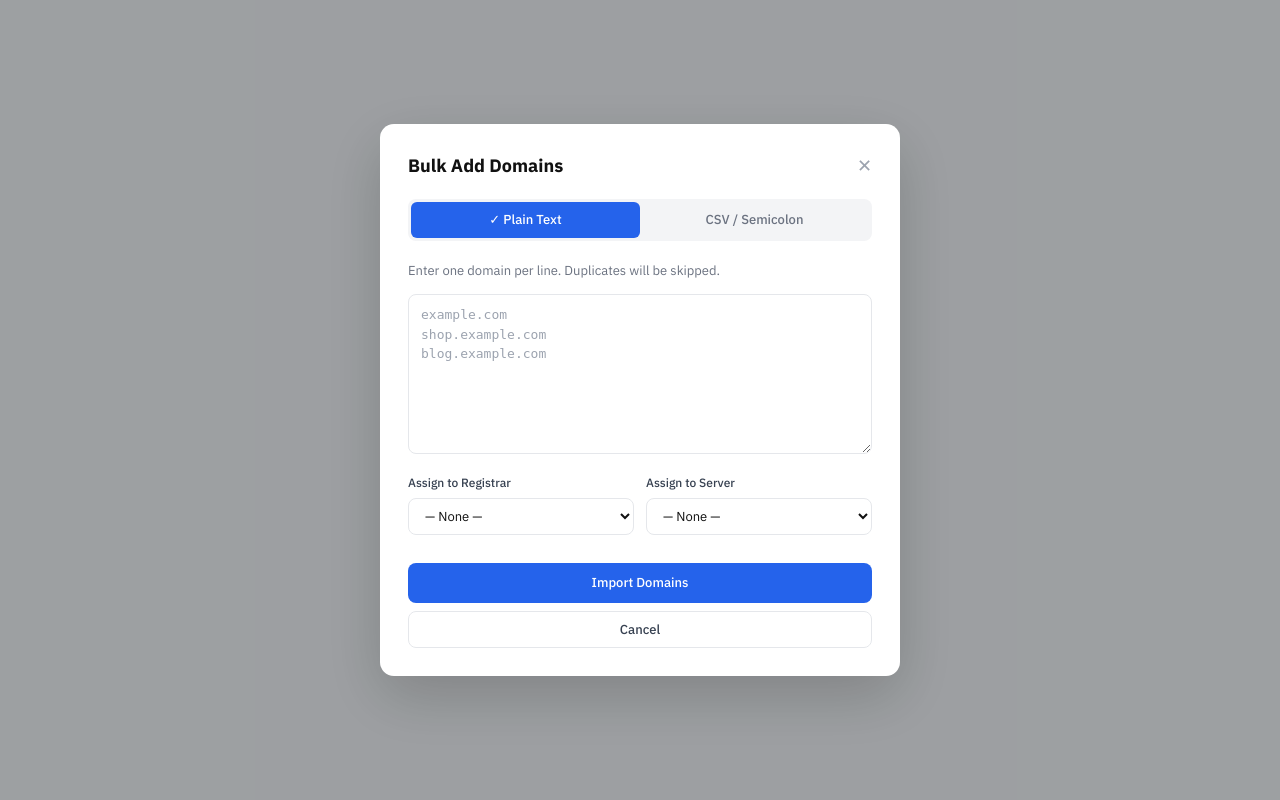
Test: BulkAddDialog › запятые вместо точек с запятой по-прежнему отменяют отправку
Step 1. Click the button "CSV / Semicolon" → (754, 220), box [640,202,869,238]
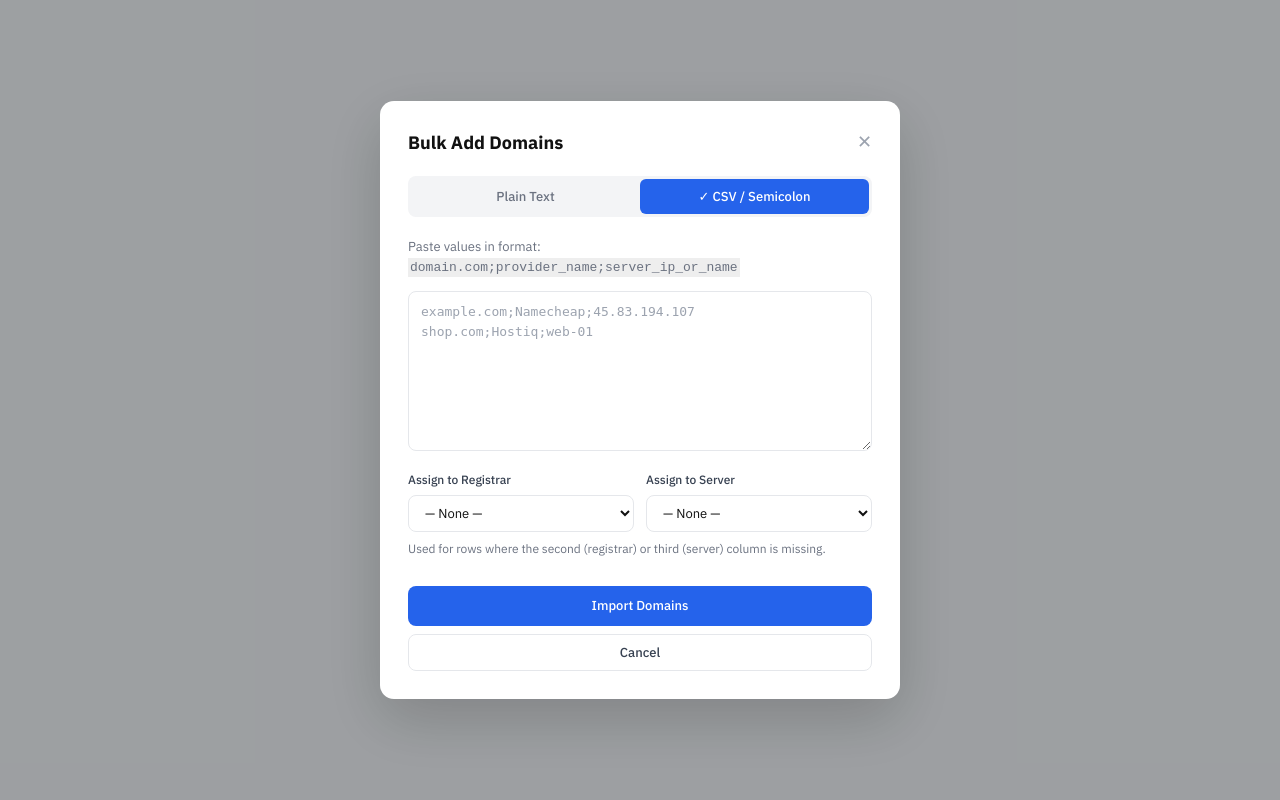
Step 2. Type "example.com,Namecheap,web-01" into the text box with placeholder "example.com;Namecheap;45.83.194.107 shop.com;Hostiq;web-01" → (640, 371), box [408,291,872,451]
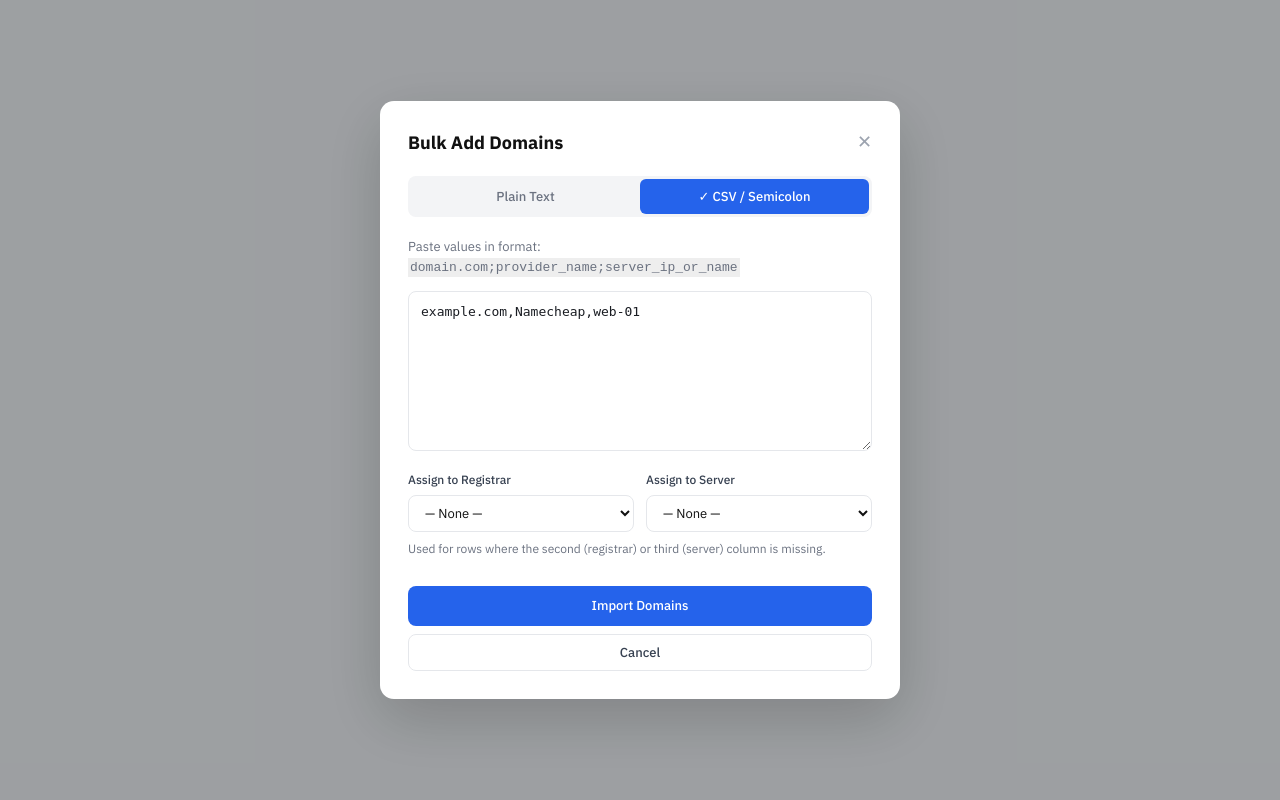
Step 3. Click the button "Import Domains" → (640, 606), box [408,586,872,626]
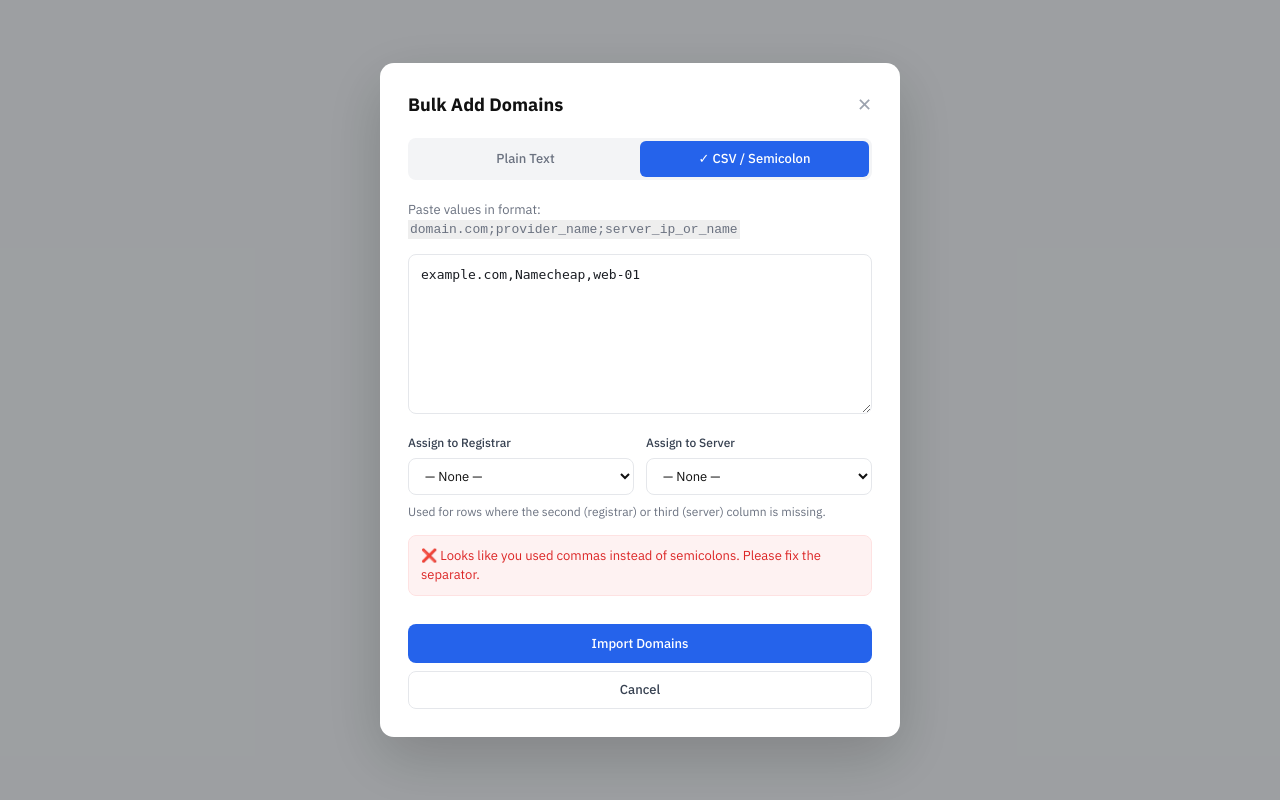
Expected: the text "commas" is shown, [421,547,821,583]
Step 4. Replace the text in the text box with placeholder "example.com;Namecheap;45.83.194.107 shop.com;Hostiq;web-01" with "example.com;Namecheap;web-01" → (640, 334), box [408,254,872,414]
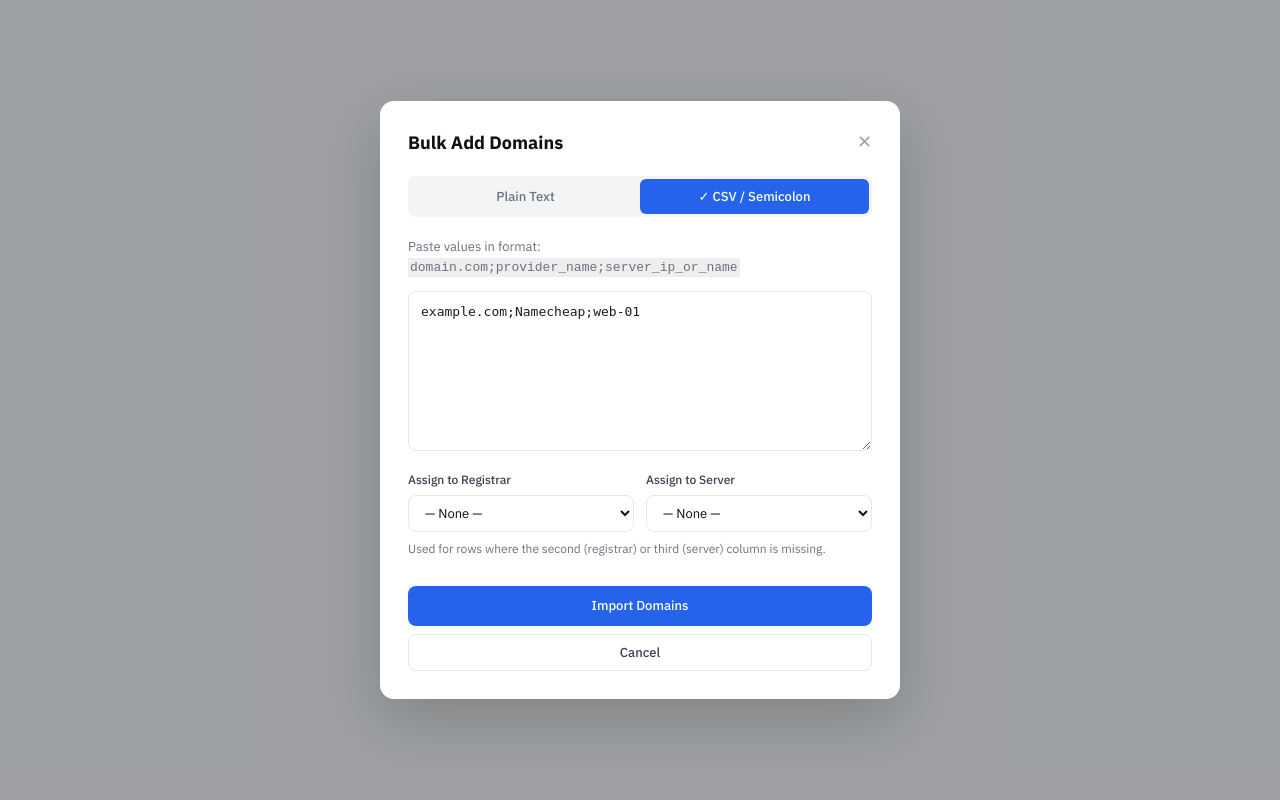
Expected: the text "commas" is gone
